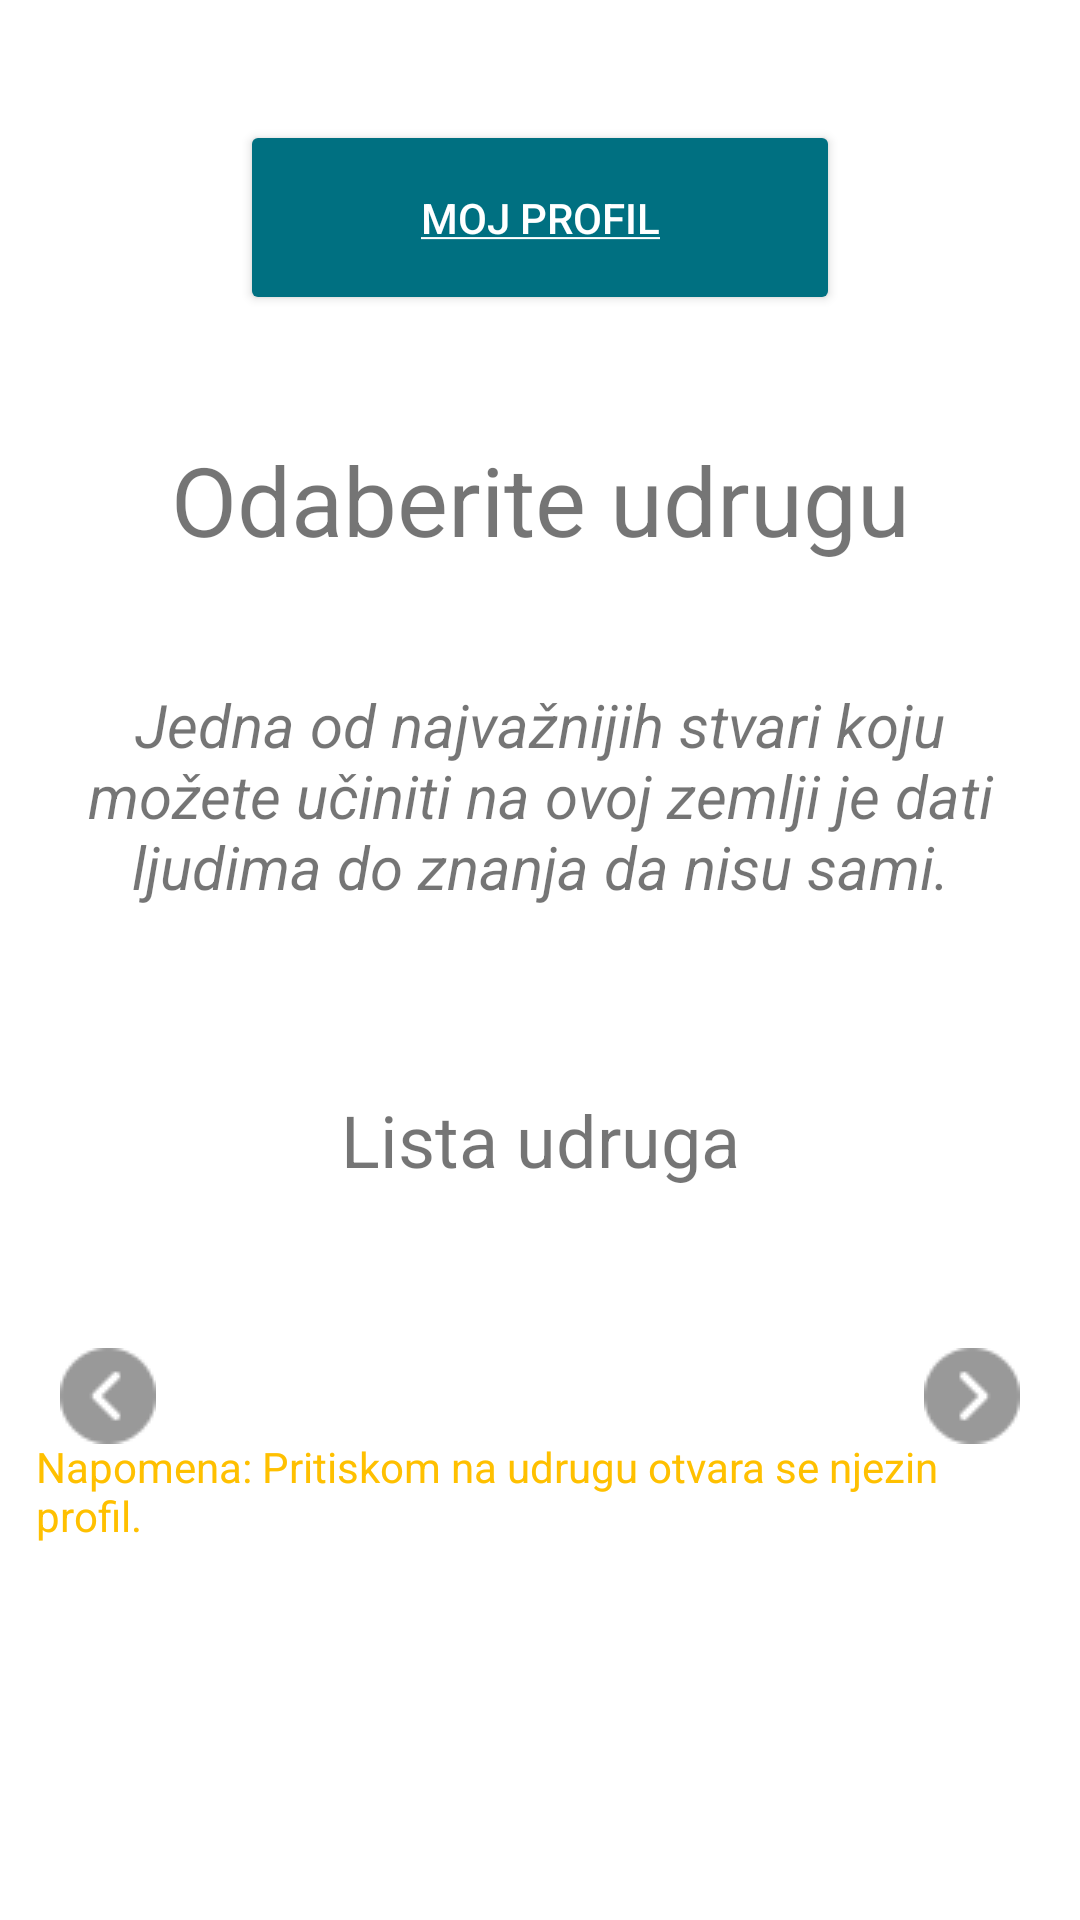

Icon click points for this 1080px x 1920px phone screenshot, format (x=x, y=y):
arrowr: (x=972, y=1396)
